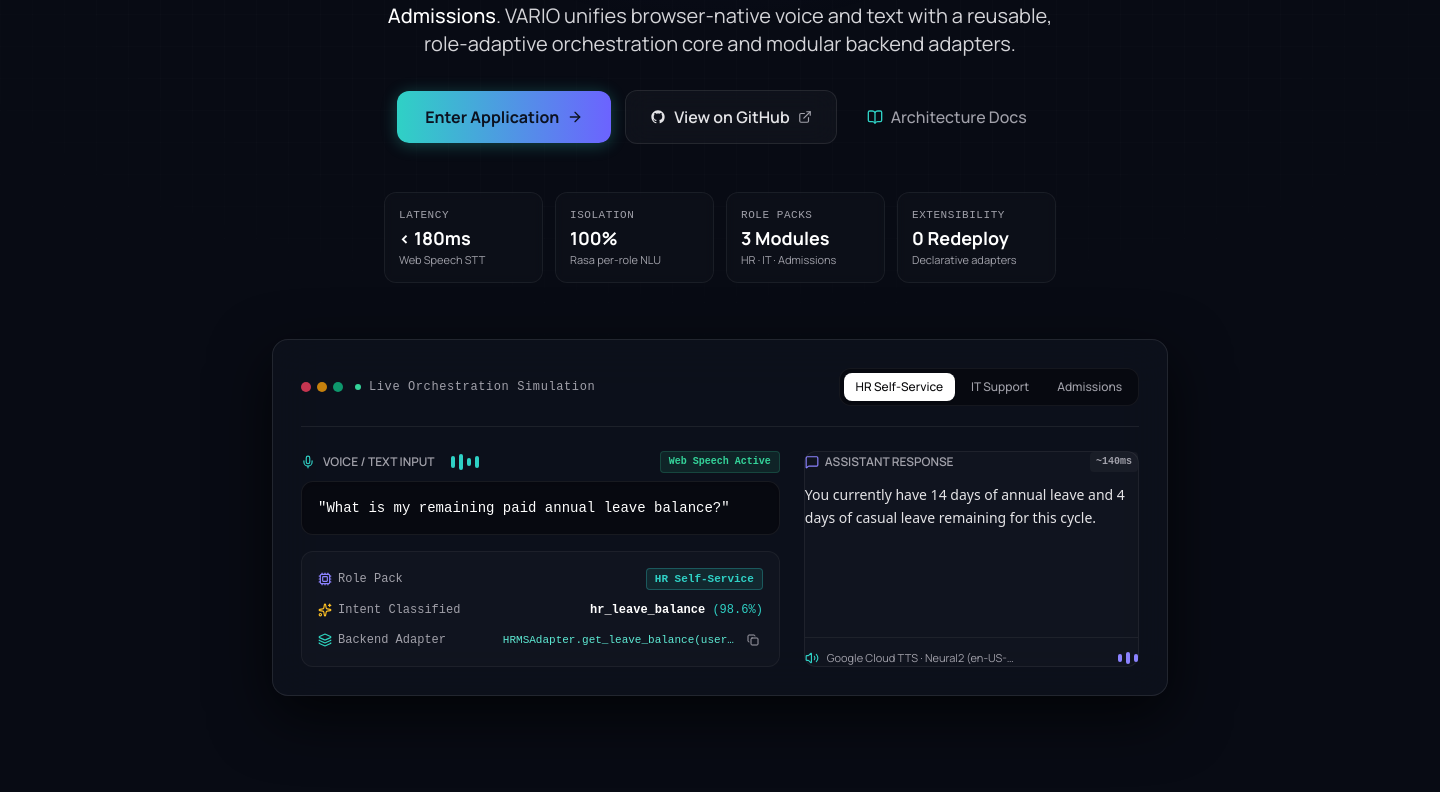
Test: VARIO Public Landing Page › allows interactive role switching in the hero simulation
(page scrolled)
Expected: the text "hr_leave_balance (98.6%)" is shown, [590, 602, 763, 618]
# Switch to IT Support
Click the button "IT Support" at (1000, 387), box [959, 373, 1041, 401]
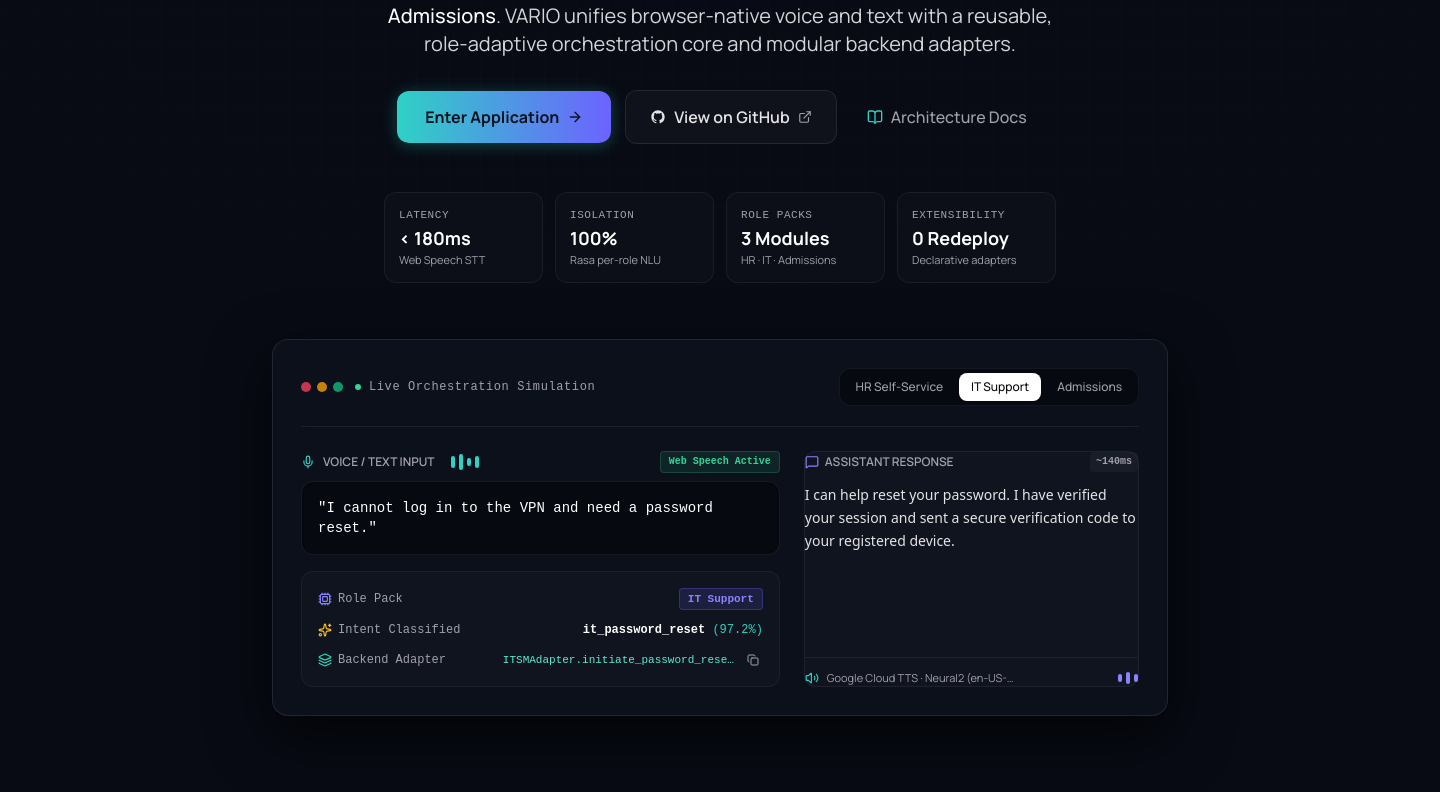
Now the text "it_password_reset (97.2%)" is shown, box [583, 622, 763, 638]
# Switch to Admissions
Click the button "Admissions" at (1090, 387), box [1045, 373, 1134, 401]
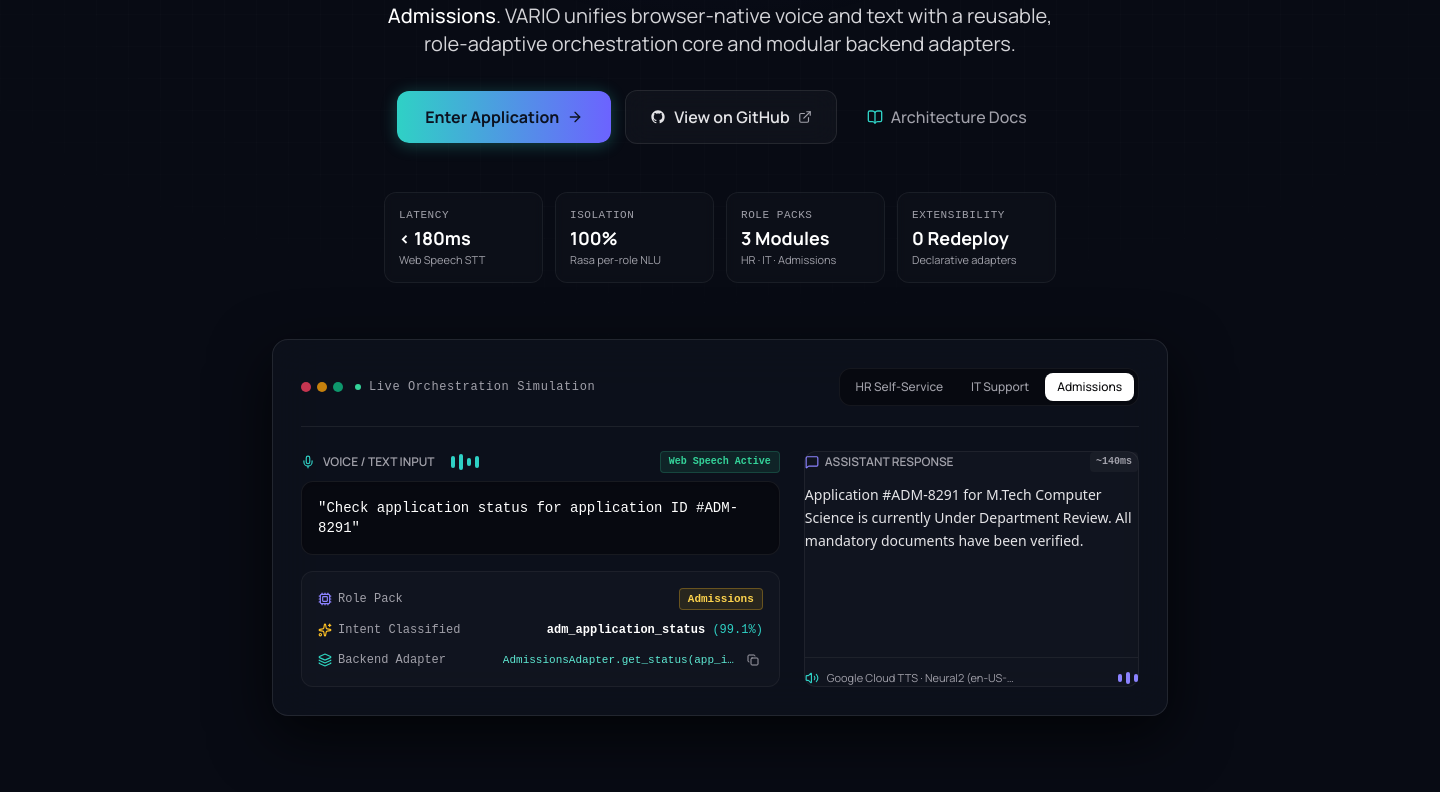
Now the text "adm_application_status (99.1%)" is shown, box [547, 622, 763, 638]
